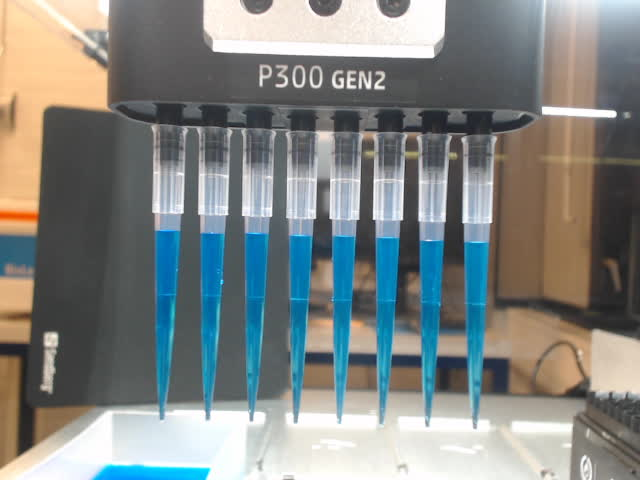Liquid: (460, 237, 494, 432), (150, 225, 182, 420), (416, 236, 447, 430), (242, 228, 272, 426), (286, 231, 316, 427), (329, 233, 359, 428), (373, 235, 403, 429), (197, 229, 226, 422)
Tip: (459, 131, 501, 432), (148, 122, 190, 421), (413, 132, 454, 431), (239, 125, 279, 424), (326, 131, 366, 430), (282, 128, 322, 426), (370, 131, 410, 429), (194, 126, 234, 423)
